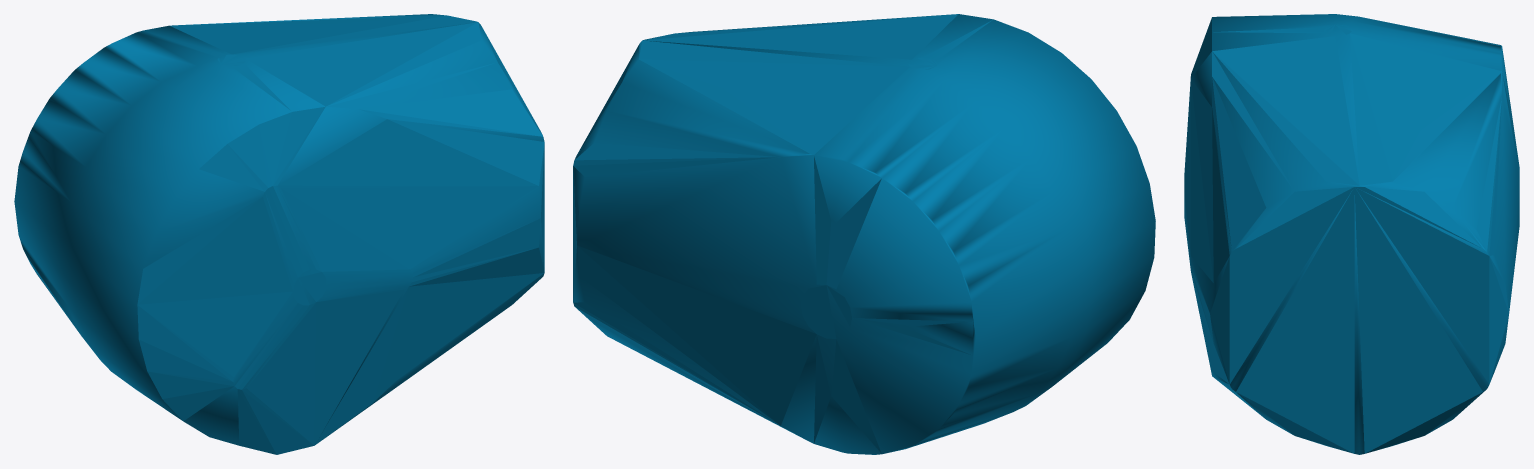
3 renders of one model, left to right at view 1: azimuth 30°, elevation 25°; view 2: azimuth 150°, elevation 25°; view 3: azimuth 270°, elevation 25°, orthographic. The views are drawn at different scales.
Parts seen in each view (by area): view 1: gp4_link_5_b; view 2: gp4_link_5_b; view 3: gp4_link_5_b.
Boxes of the visible parts, bbox=[...] form: gp4_link_5_b: bbox=[14, 14, 544, 454]; gp4_link_5_b: bbox=[573, 14, 1155, 454]; gp4_link_5_b: bbox=[1184, 14, 1519, 454].
Size of the model in its own units: 0.1112 by 0.0785 by 0.087.
